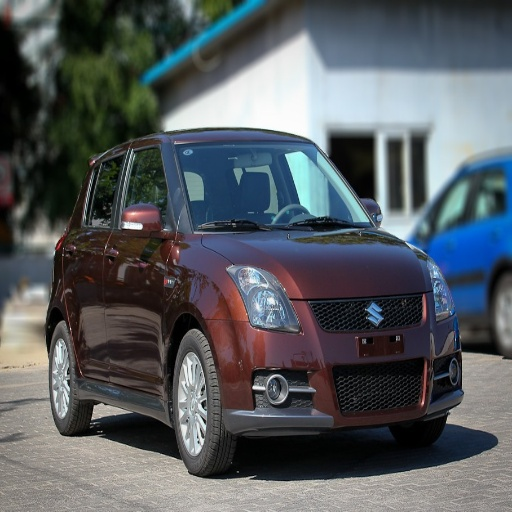front_bumper: (222, 291, 462, 431)
front_right_door: (105, 143, 172, 386)
front_right_light: (227, 267, 302, 332)
hood: (201, 227, 439, 298)
